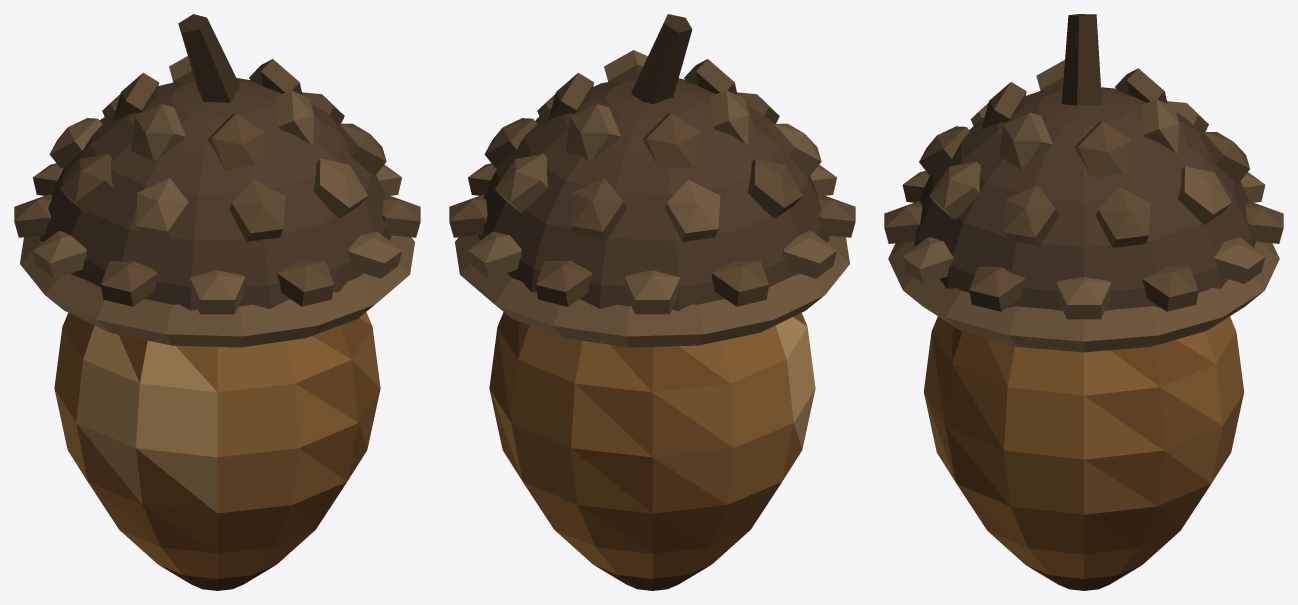
The model's file is visitors-acorn.glb.
The picture shows the model from 3 angles, left to right: view 1: azimuth 30°, elevation 25°; view 2: azimuth 150°, elevation 25°; view 3: azimuth 270°, elevation 25°; orthographic projection.
Size of the model in its own units: 0.8973 by 1.4 by 0.8973.
